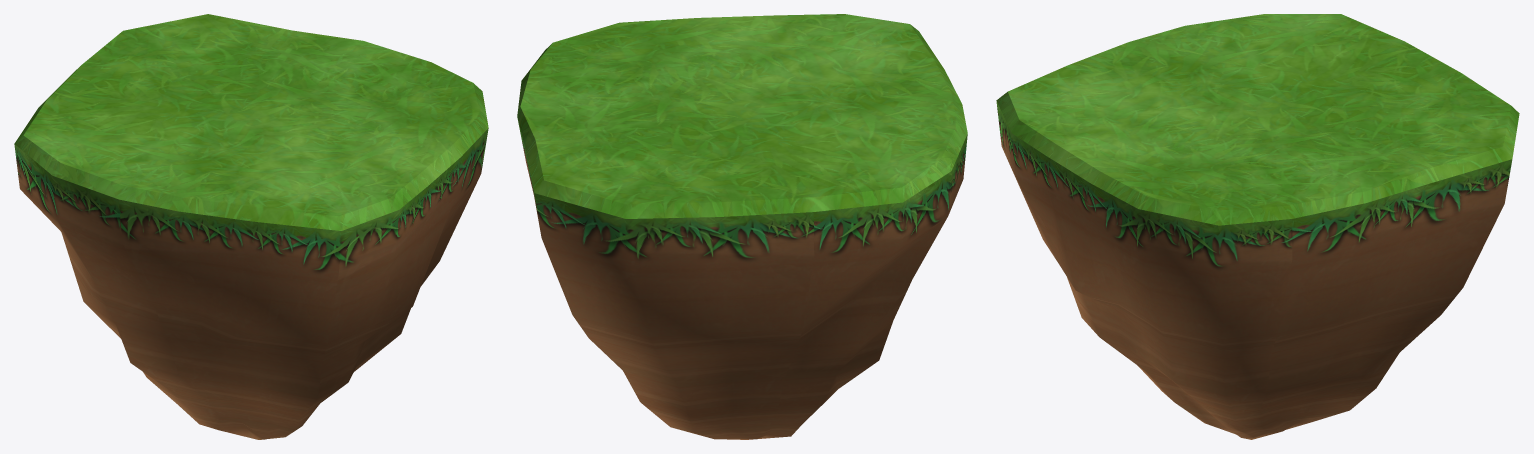
File: lvl1_plat023.FBX
3 renders of one model, left to right at view 1: azimuth 30°, elevation 25°; view 2: azimuth 150°, elevation 25°; view 3: azimuth 270°, elevation 25°, orthographic. The views are drawn at different scales.
Parts seen in each view (by area): view 1: lvl1_plat009_grass, lvl1_plat009; view 2: lvl1_plat009_grass, lvl1_plat009; view 3: lvl1_plat009, lvl1_plat009_grass.
Boxes of the visible parts, left/top/right/bottom form: lvl1_plat009_grass: left=14, top=14, right=488, bottom=230; lvl1_plat009: left=14, top=128, right=488, bottom=439; lvl1_plat009_grass: left=517, top=14, right=967, bottom=218; lvl1_plat009: left=517, top=119, right=967, bottom=439; lvl1_plat009: left=996, top=101, right=1512, bottom=439; lvl1_plat009_grass: left=996, top=14, right=1519, bottom=225.
Size of the model in its own units: 265 by 285 by 198.
